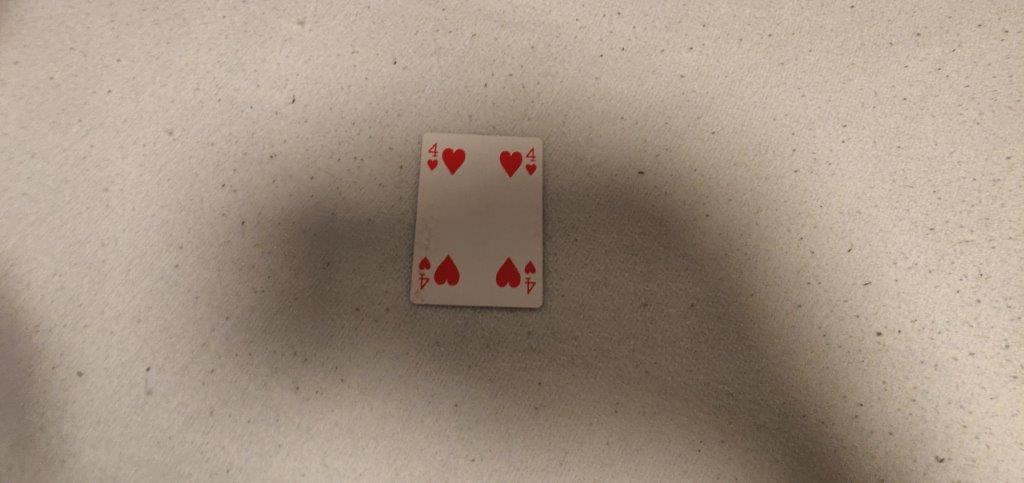4H: (424, 136, 441, 174), (523, 146, 541, 179)
